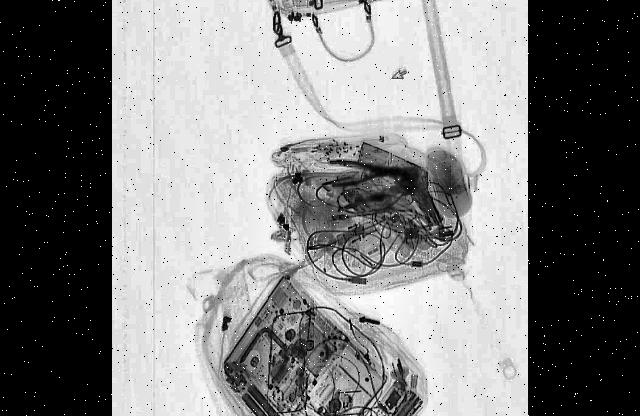Pliers: (328, 155, 406, 189)
